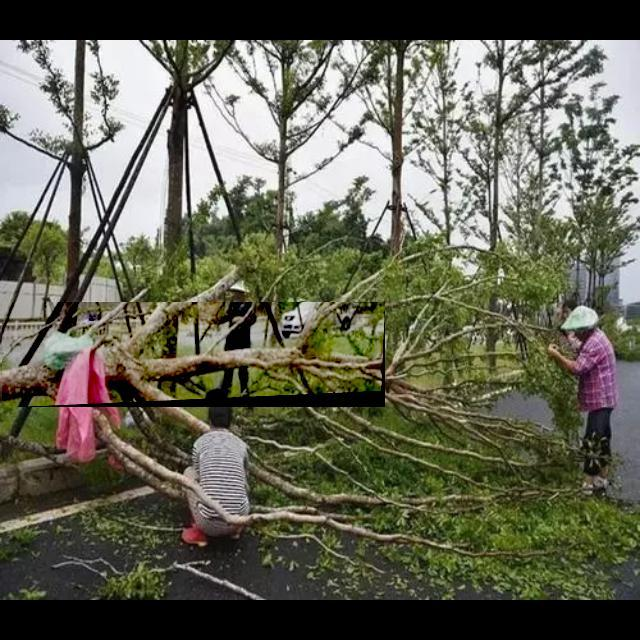fallen_tree: (2, 302, 386, 408)
